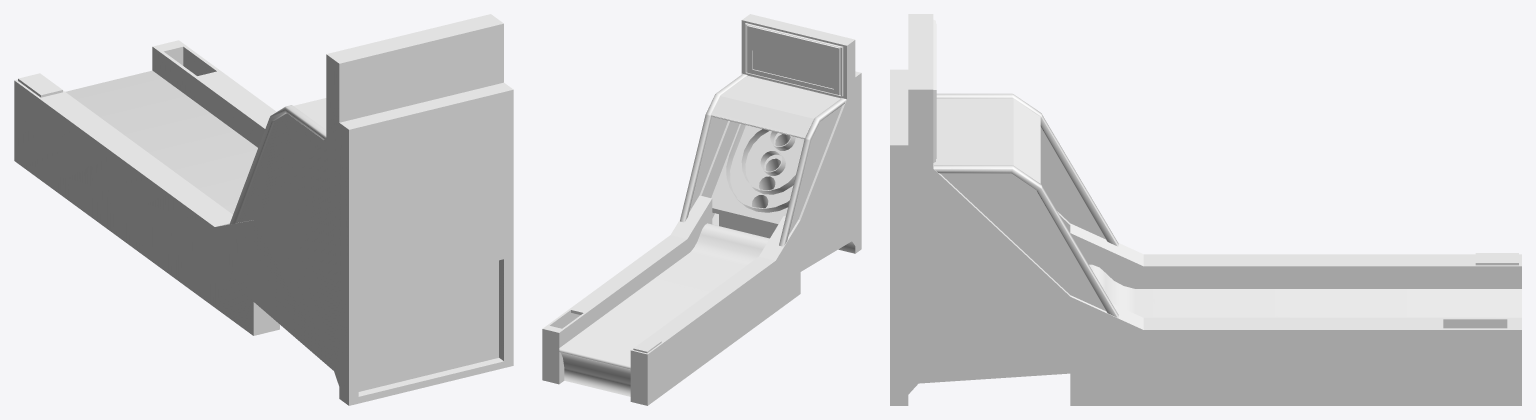
Rendered from Skee Ball.glb.
The picture shows the model from 3 angles, left to right: view 1: azimuth 30°, elevation 25°; view 2: azimuth 150°, elevation 25°; view 3: azimuth 270°, elevation 25°; orthographic projection. The views are drawn at different scales.
Visible parts, largest first — view 1: Cube.006, Cube.005; view 2: Cube.006, Cube.005; view 3: Cube.006, Cube.005.
Boxes of the visible parts, x1,y1,x2,y2 form: Cube.006: (14,14,513,405); Cube.005: (65,47,279,335); Cube.006: (542,14,861,405); Cube.005: (559,75,840,396); Cube.006: (890,14,1521,405); Cube.005: (1060,216,1521,317).
Bounding box in the file's own units: 0.9821 × 1.91 × 3.46.
2 materials, 1 textured.
